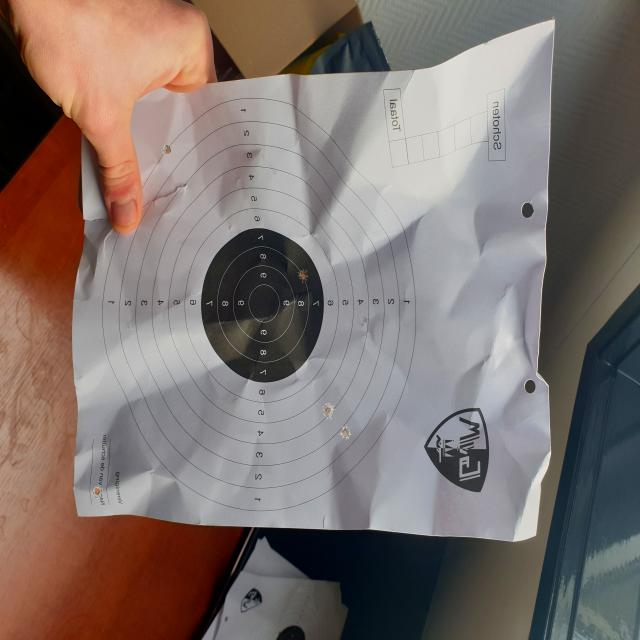0: (91, 485, 103, 499), (162, 144, 172, 156)
2: (340, 426, 351, 441)
4: (323, 403, 335, 419)
8: (298, 269, 308, 283)
Target: (102, 91, 417, 513)
black_contour: (201, 229, 324, 382)
